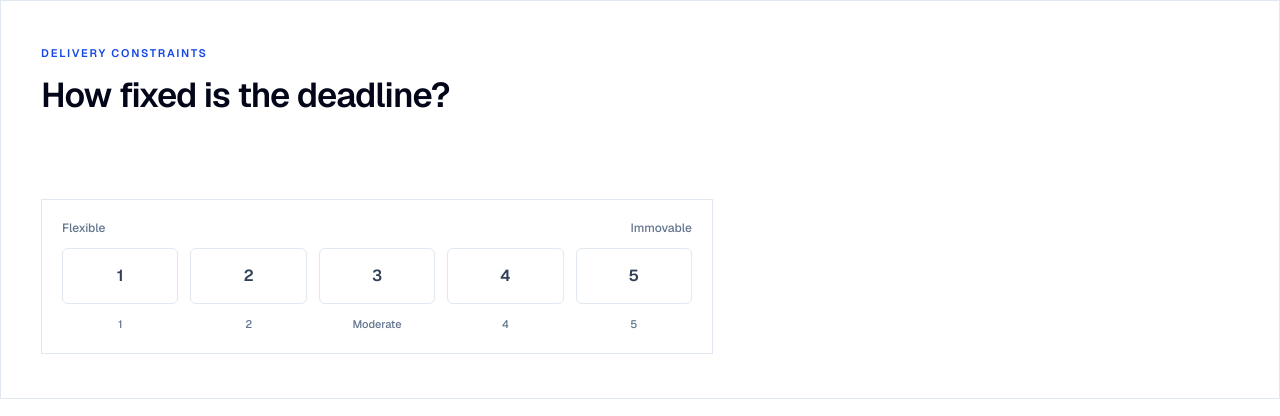
question components › locks a Likert choice after recording one answer
Click the button "4".
click(505, 276)  # box [447,248,564,304]
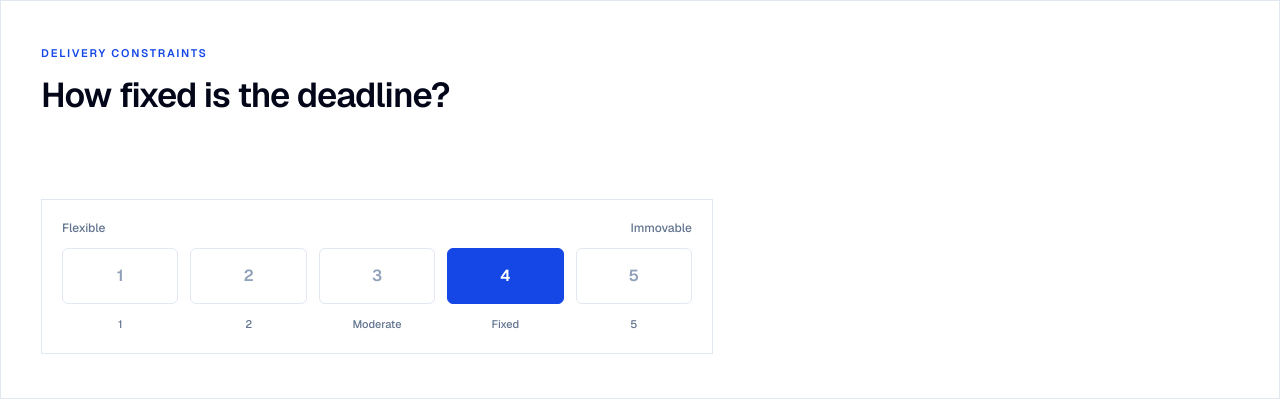
Check: the button "1" is disabled, box [62,248,178,304]
Check: the button "4" is disabled, box [447,248,564,304]
